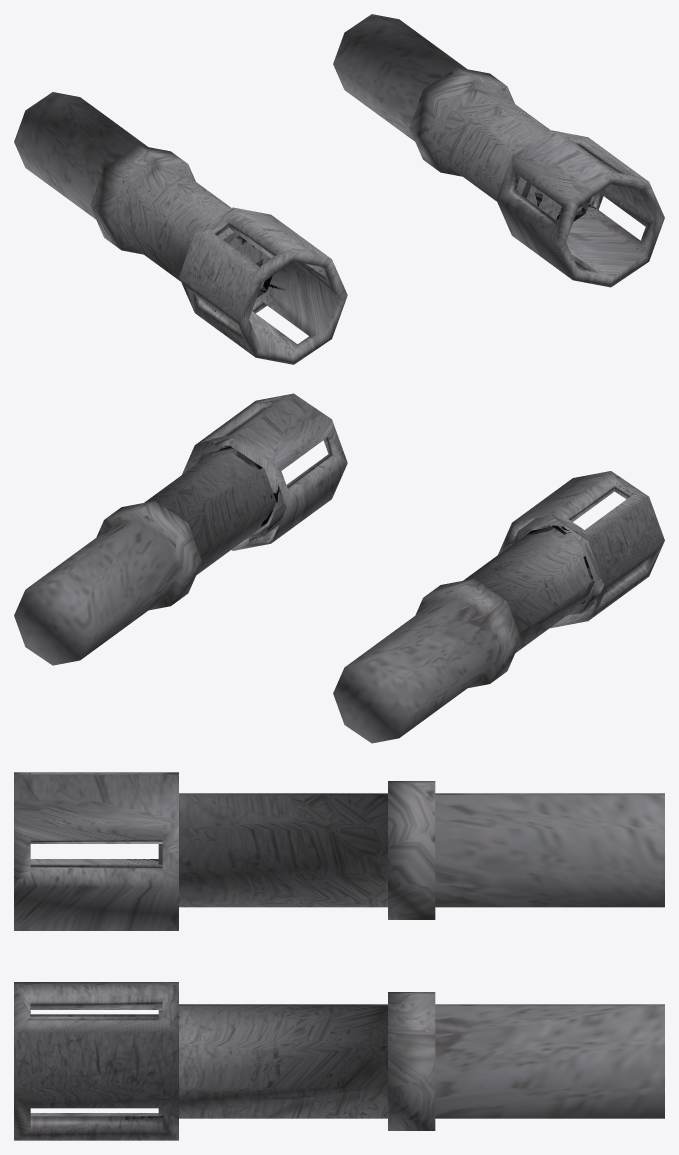
Rendered from guns.fbx.
The picture shows the model from 3 angles, top to bottom: view 1: azimuth 30°, elevation 25°; view 2: azimuth 150°, elevation 25°; view 3: azimuth 270°, elevation 25°; orthographic projection. The views are drawn at different scales.
Visible parts, largest first — view 1: gunTips; view 2: gunTips; view 3: gunTips.
Boxes of the visible parts, x1,y1,x2,y2 form: gunTips: (14,14,664,364); gunTips: (14,393,664,743); gunTips: (14,772,664,1140).
Size of the model in its own units: 508 by 129 by 497.
Materials: 1 (1 with a texture image).
